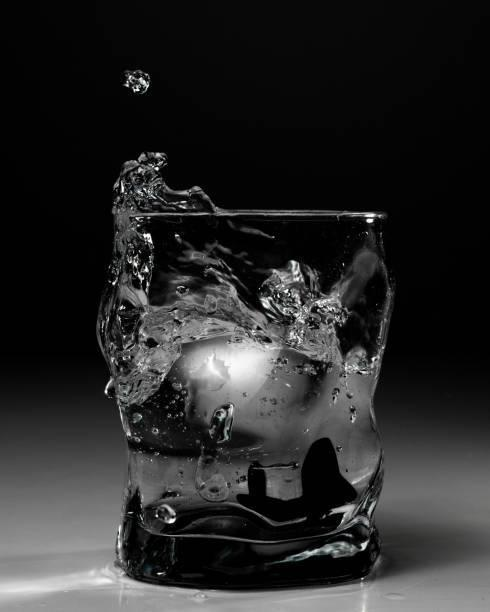glass-normal: (110, 198, 400, 598)
